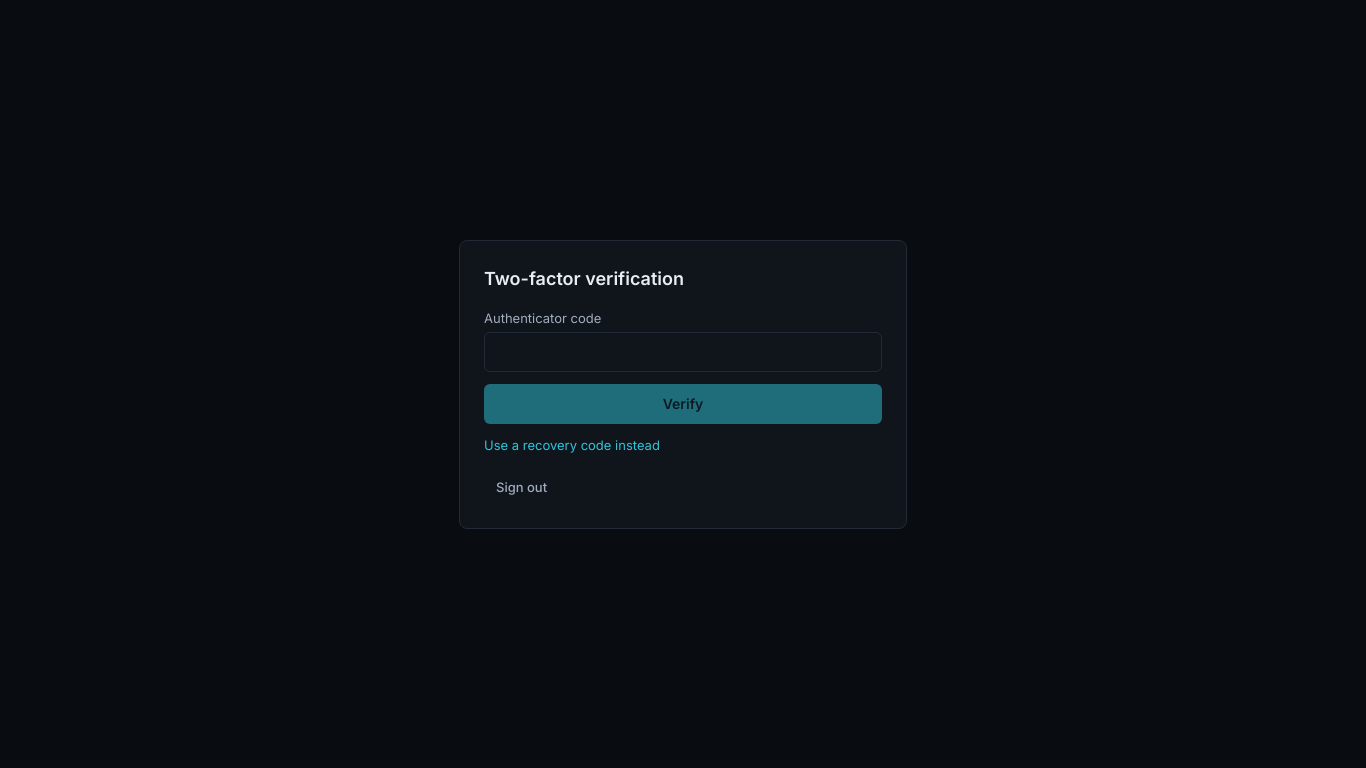
Test: session security › routes a session that still needs its MFA challenge to the MFA page, then into the app
Expected: the heading "Two-factor verification" is shown, [484,268,684,288]
Type "123456" into the field labelled "Authenticator code" at (683, 352), box [484,332,882,372]
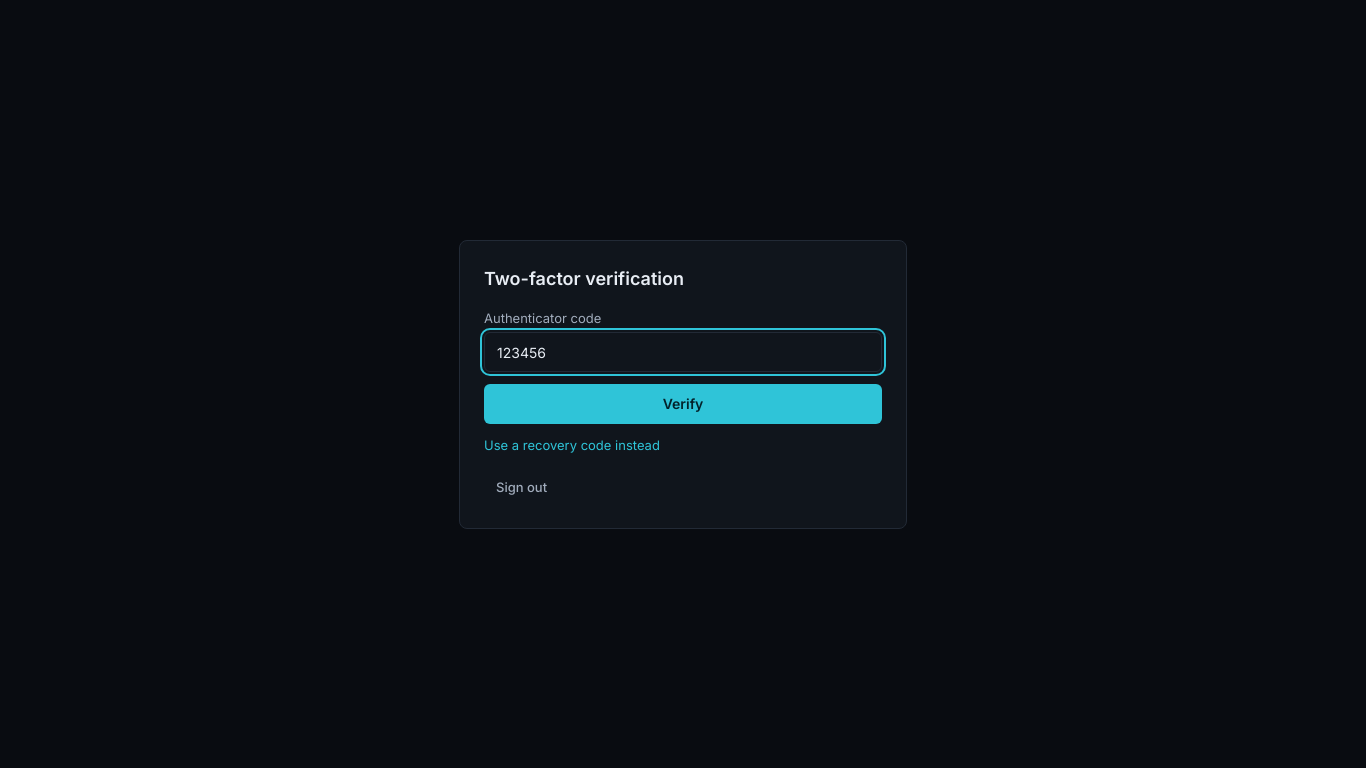
Click the button "Verify" at (683, 404), box [484,384,882,424]
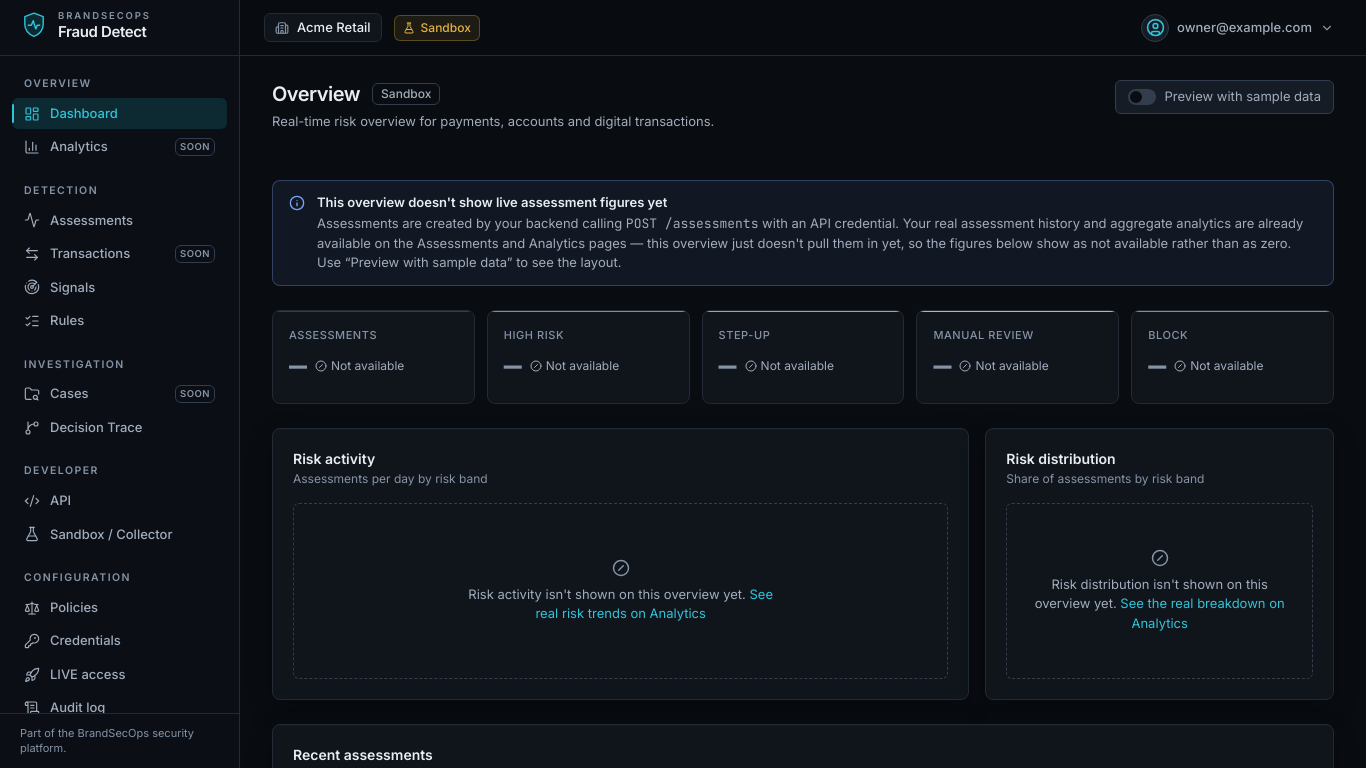
Result: the heading "Overview" is shown at [272,80,360,108]
